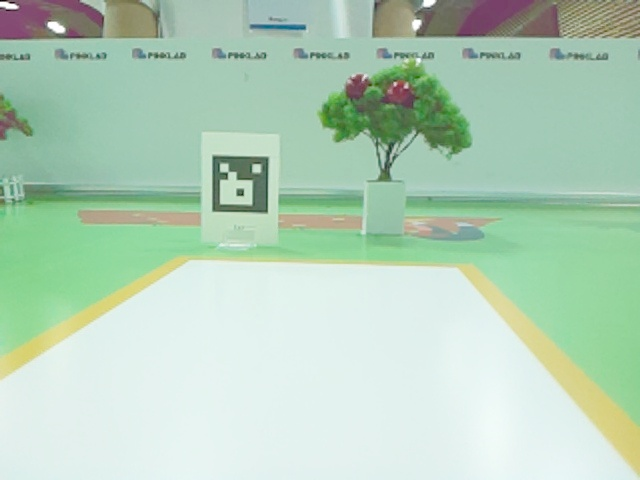apple: (388, 81, 410, 101), (347, 76, 366, 96)
